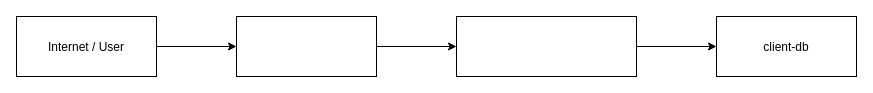
Some shapes in this 873 by 93 pixel diagram are drawn without their labels. The centre of each missing label's shape, as x and y in pixels:
alb: (306,46)
client-management-api: (546,46)
